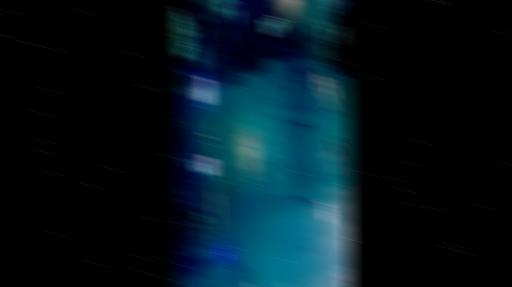Fish: (316, 73, 337, 114), (261, 17, 286, 35), (316, 201, 331, 222), (330, 137, 341, 159), (326, 160, 339, 178), (324, 144, 335, 162), (336, 26, 344, 42), (261, 93, 270, 106), (255, 167, 264, 179), (239, 7, 252, 15), (233, 8, 239, 25), (282, 79, 289, 93), (255, 181, 264, 191), (266, 76, 273, 88), (245, 184, 254, 193), (263, 70, 270, 81), (242, 80, 249, 90), (291, 122, 308, 126), (249, 182, 255, 193), (263, 111, 270, 120), (252, 94, 259, 102), (257, 73, 264, 80), (176, 120, 183, 127), (263, 159, 269, 167), (339, 273, 345, 280), (293, 185, 300, 191), (348, 157, 350, 174), (245, 93, 252, 97), (300, 193, 307, 197), (257, 89, 259, 95), (257, 75, 259, 79)
